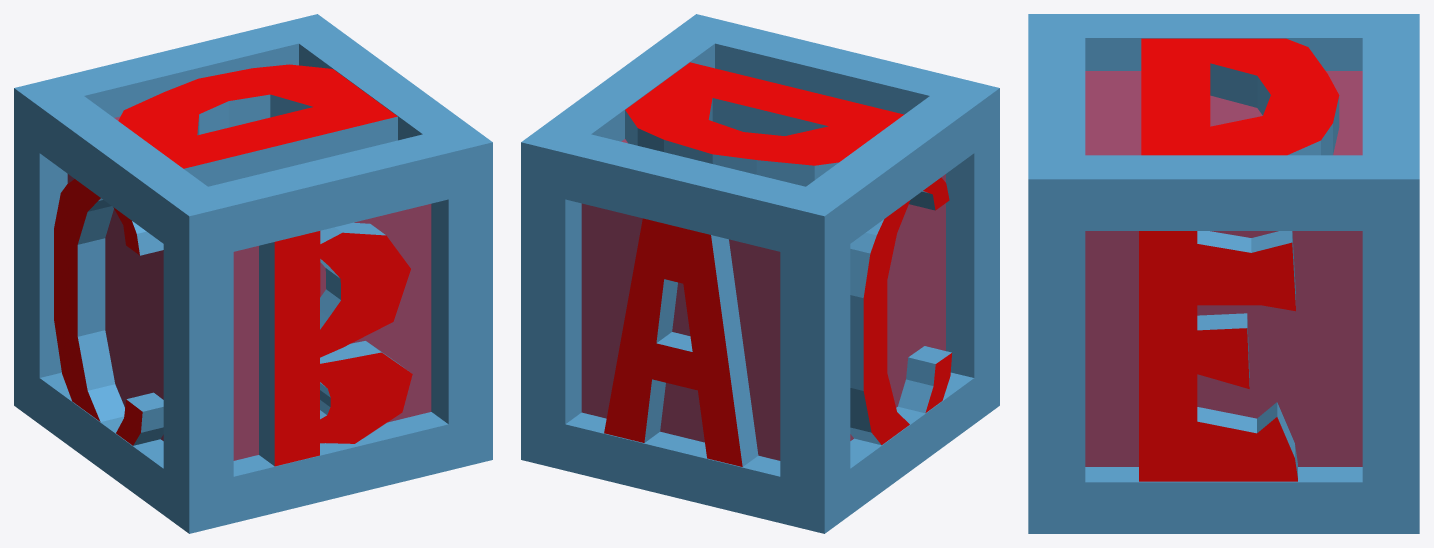
The model's file is pick up modelado.fbx.
The picture shows the model from 3 angles, left to right: view 1: azimuth 30°, elevation 25°; view 2: azimuth 150°, elevation 25°; view 3: azimuth 270°, elevation 25°; orthographic projection. The views are drawn at different scales.
Parts seen in each view (by area): view 1: Box001; view 2: Box001; view 3: Box001.
Boxes of the visible parts, left/top/right/bottom form: Box001: left=14, top=14, right=492, bottom=533; Box001: left=521, top=14, right=999, bottom=533; Box001: left=1028, top=14, right=1419, bottom=533.
Size of the model in its own units: 0.5 by 0.5 by 0.5.
